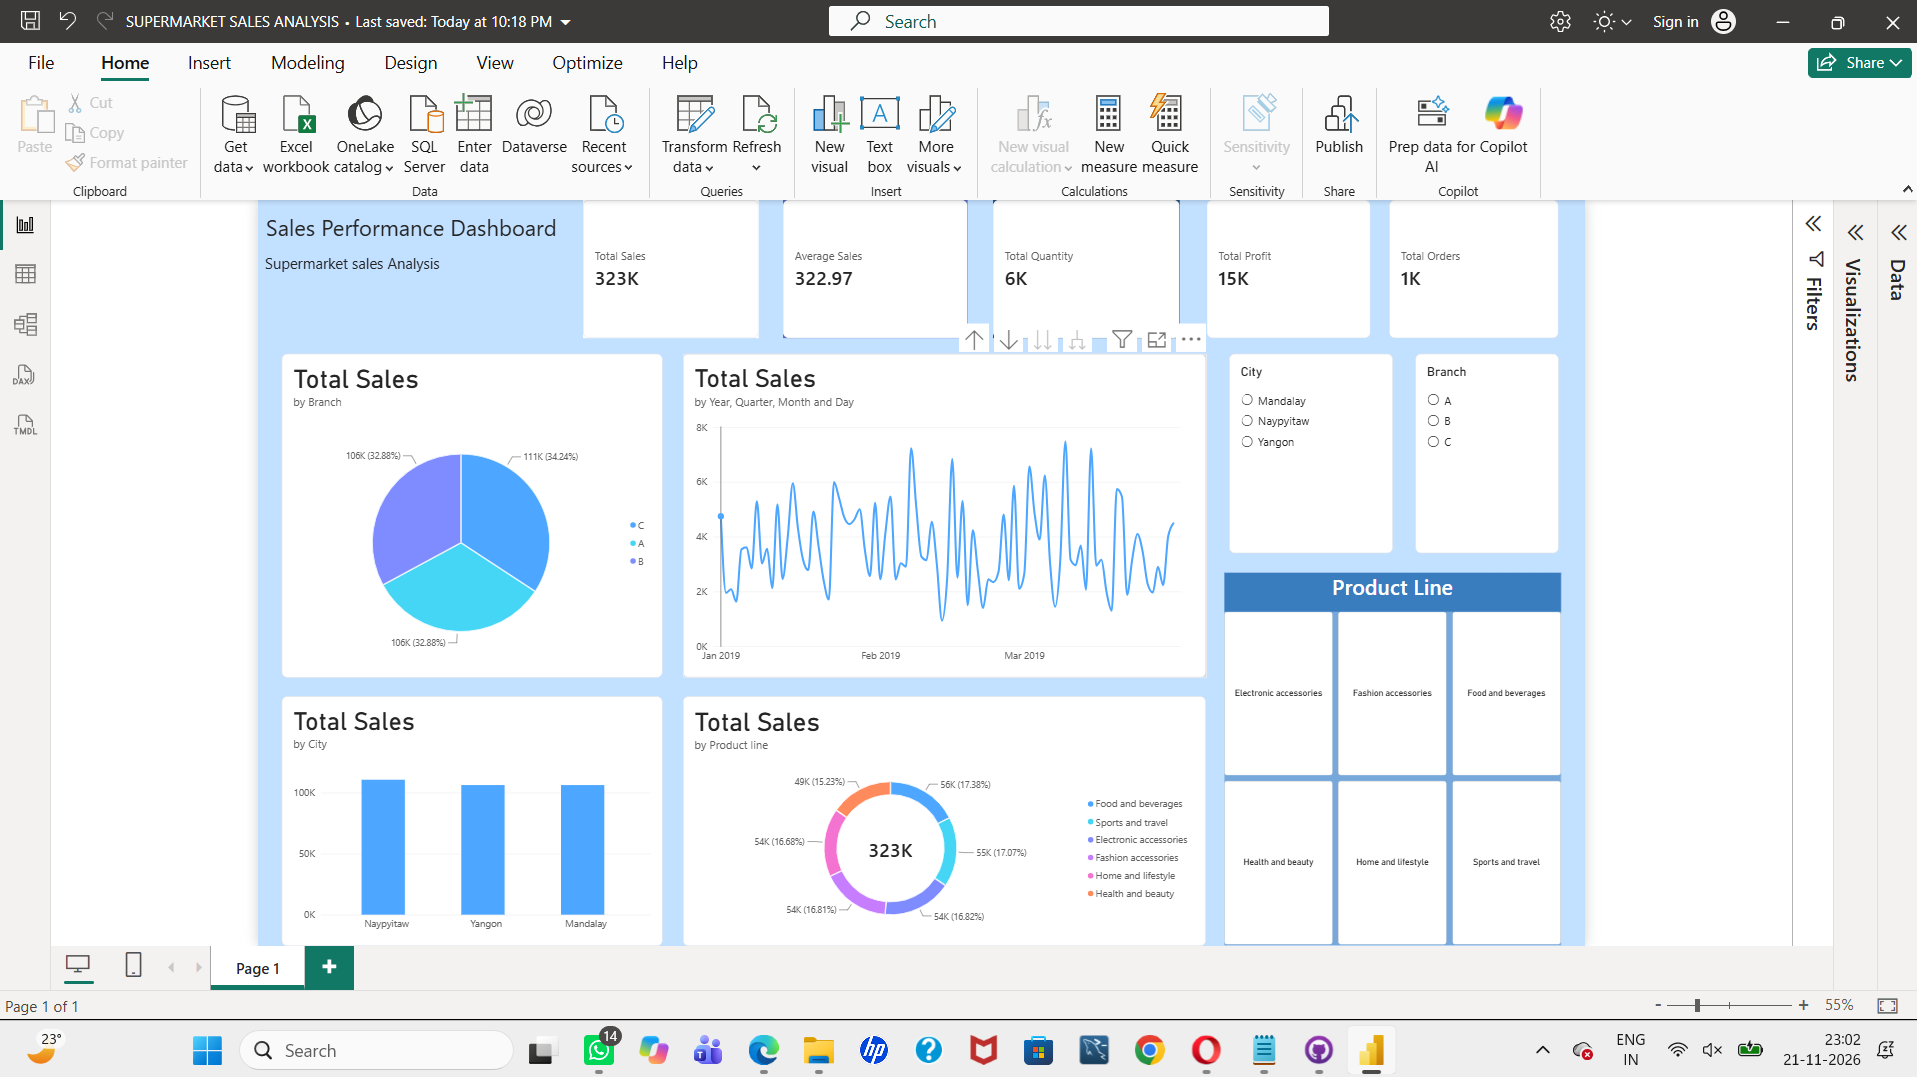

What the dashboard file says about the page in this screenshot:
{"tool":"powerbi","page":{"name":"Page 1","canvas":[1920,1080],"ordinal":0},"visuals":[{"type":"cardVisual","fields":{"Data":["supermarket_sales - Sheet1.Total Sales"]},"box":[470,0,254.3,200],"z":0},{"type":"cardVisual","fields":{"Data":["supermarket_sales - Sheet1.Total Quantity"]},"box":[1064.3,0,270,200],"z":1},{"type":"cardVisual","fields":{"Data":["supermarket_sales - Sheet1.Total Profit"]},"box":[1372.9,0,237.1,200],"z":2},{"type":"cardVisual","fields":{"Data":["supermarket_sales - Sheet1.Total Orders"]},"box":[1637.1,0,245.7,200],"z":3},{"type":"cardVisual","fields":{"Data":["supermarket_sales - Sheet1.Average Sales"]},"box":[760,0,267.1,200],"z":4},{"type":"lineChart","fields":{"Category":["supermarket_sales - Sheet1.Date.Variation.Date Hierarchy.Year","supermarket_sales - Sheet1.Date.Variation.Date Hierarchy.Quarter","supermarket_sales - Sheet1.Date.Variation.Date Hierarchy.Month","supermarket_sales - Sheet1.Date.Variation.Date Hierarchy.Day"],"Y":["supermarket_sales - Sheet1.Total Sales"]},"box":[615.7,222.9,757.1,468.6],"z":5},{"type":"columnChart","fields":{"Category":["supermarket_sales - Sheet1.City"],"Y":["supermarket_sales - Sheet1.Total Sales"]},"box":[34.3,718.6,551.4,361.4],"z":6},{"type":"donutChart","fields":{"Category":["supermarket_sales - Sheet1.Product line"],"Y":["supermarket_sales - Sheet1.Total Sales"]},"box":[615.7,718.6,757.1,361.4],"z":7},{"type":"pieChart","fields":{"Category":["supermarket_sales - Sheet1.Branch"],"Y":["supermarket_sales - Sheet1.Total Sales"]},"box":[34.3,222.9,551.4,468.6],"z":8},{"type":"advancedSlicerVisual","title":"Product Line","fields":{"Values":["supermarket_sales - Sheet1.Product line"]},"box":[1398.6,540,487.1,540],"z":11},{"type":"listSlicer","fields":{"Values":["supermarket_sales - Sheet1.Branch"]},"box":[1675.7,222.9,207.1,288.6],"z":12},{"type":"listSlicer","fields":{"Values":["supermarket_sales - Sheet1.City"]},"box":[1405.7,222.9,237.1,288.6],"z":14},{"type":"textbox","box":[100,100,300,300],"z":16},{"type":"textbox","box":[100,100,300,100],"z":17},{"type":"textbox","box":[0,18.3,470,181.7],"z":18}]}

Visuals, with their boxes on the page's 1920x1080 design canvas (x1, y1, x2, y2). These are canvas units, not pixel positions in the 1917x1077 screenshot, which may show the page scaled, cropped or inside an application window:
cardVisual - supermarket_sales - Sheet1.Total Sales: crop(470, 0, 724, 200)
cardVisual - supermarket_sales - Sheet1.Total Quantity: crop(1064, 0, 1334, 200)
cardVisual - supermarket_sales - Sheet1.Total Profit: crop(1373, 0, 1610, 200)
cardVisual - supermarket_sales - Sheet1.Total Orders: crop(1637, 0, 1883, 200)
cardVisual - supermarket_sales - Sheet1.Average Sales: crop(760, 0, 1027, 200)
lineChart - supermarket_sales - Sheet1.Date.Variation.Date Hierarchy.Year x supermarket_sales - Sheet1.Date.Variation.Date Hierarchy.Quarter: crop(616, 223, 1373, 692)
columnChart - supermarket_sales - Sheet1.City x supermarket_sales - Sheet1.Total Sales: crop(34, 719, 586, 1080)
donutChart - supermarket_sales - Sheet1.Product line x supermarket_sales - Sheet1.Total Sales: crop(616, 719, 1373, 1080)
pieChart - supermarket_sales - Sheet1.Branch x supermarket_sales - Sheet1.Total Sales: crop(34, 223, 586, 692)
"Product Line" advancedSlicerVisual: crop(1399, 540, 1886, 1080)
listSlicer - supermarket_sales - Sheet1.Branch: crop(1676, 223, 1883, 512)
listSlicer - supermarket_sales - Sheet1.City: crop(1406, 223, 1643, 512)
textbox: crop(100, 100, 400, 400)
textbox: crop(100, 100, 400, 200)
textbox: crop(0, 18, 470, 200)
